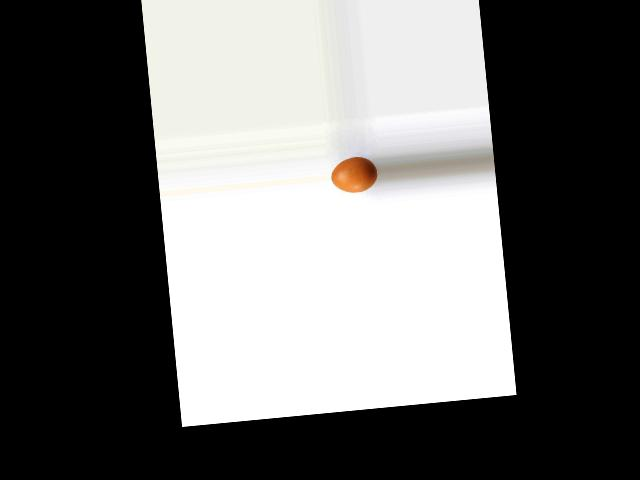egg: (330, 154, 378, 193)
